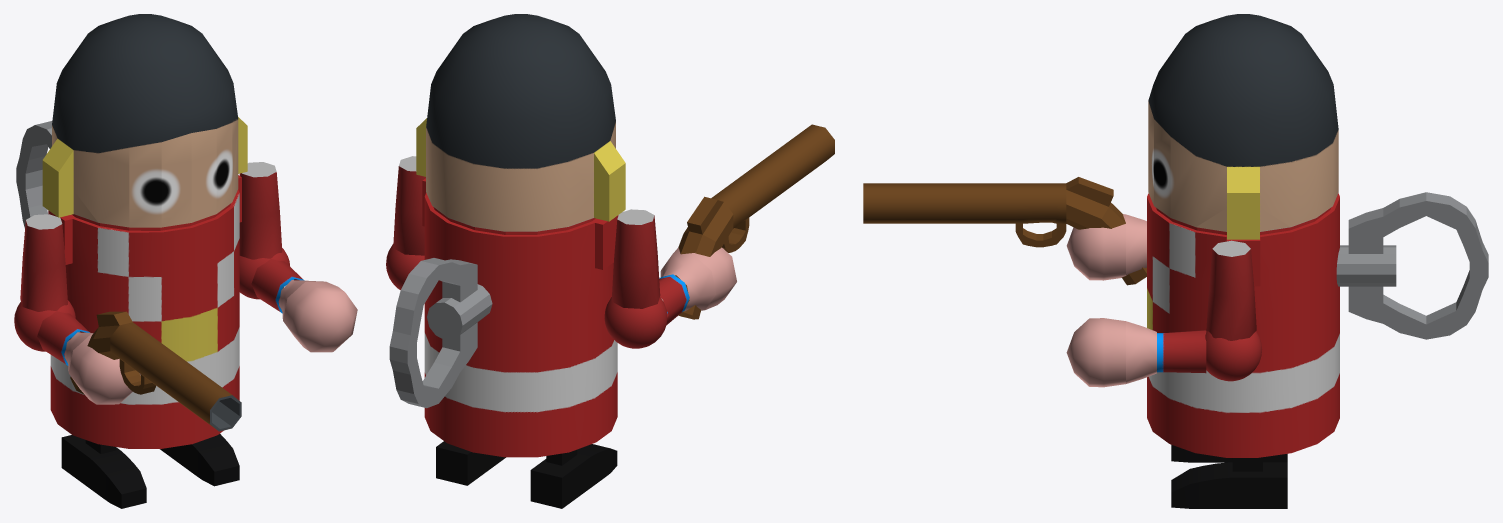
Rendered from unit_gun.fbx.
3 renders of one model, left to right at view 1: azimuth 30°, elevation 25°; view 2: azimuth 150°, elevation 25°; view 3: azimuth 270°, elevation 25°, orthographic. The views are drawn at different scales.
Parts seen in each view (by area): view 1: Sphere002, Cylinder001, Sphere004, Sphere003, Object003, Object005, Object009, Object001, Object004; view 2: Sphere002, Object001, Cylinder001, Sphere003, Object003, Object005, Object009, Object004, Sphere004; view 3: Sphere002, Cylinder001, Object001, Sphere004, Object004, Object009, Sphere003, Object005.
Part boxes in pixels (x1,y1,x2,y2): Sphere002: (42,14,247,448); Cylinder001: (70,311,241,431); Sphere004: (239,248,357,352); Sphere003: (14,300,140,404); Object003: (20,214,67,311); Object005: (61,435,146,508); Object009: (239,162,282,259); Object001: (16,121,52,227); Object004: (160,434,239,486); Sphere002: (416,14,625,457); Object001: (389,258,492,408); Cylinder001: (675,124,834,319); Sphere003: (604,247,736,348); Object003: (611,209,660,308); Object005: (530,444,617,508); Object009: (393,156,425,255); Object004: (436,441,505,485); Sphere004: (386,244,424,289); Sphere002: (1147,14,1339,457); Cylinder001: (863,177,1146,285); Object001: (1336,192,1488,339); Sphere004: (1066,318,1261,387); Object004: (1171,457,1287,508); Object009: (1206,240,1256,340); Sphere003: (1066,214,1146,280); Object005: (1171,445,1287,462).
Bounding box in the file's own units: 50.18 × 97.13 × 78.06.
8 materials, 8 textured.
